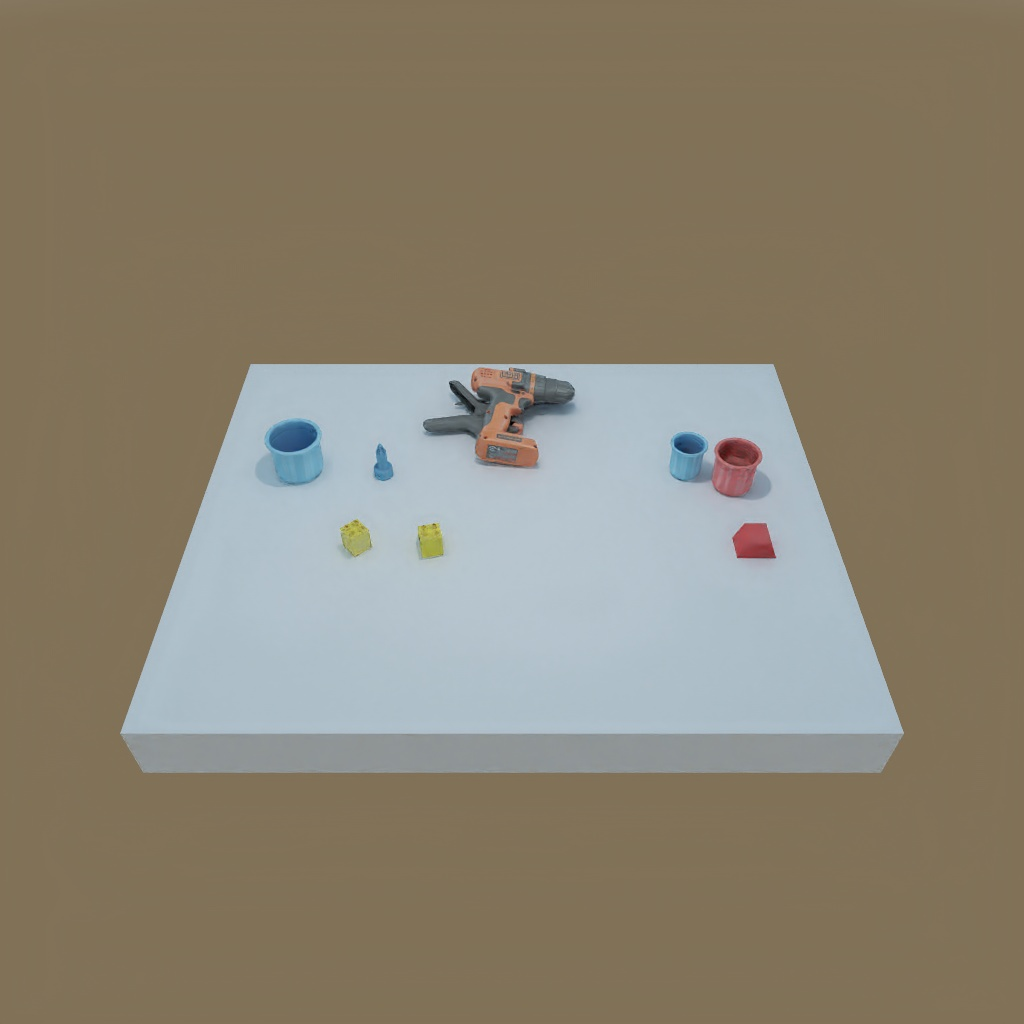power_drill: (473, 362, 569, 473)
